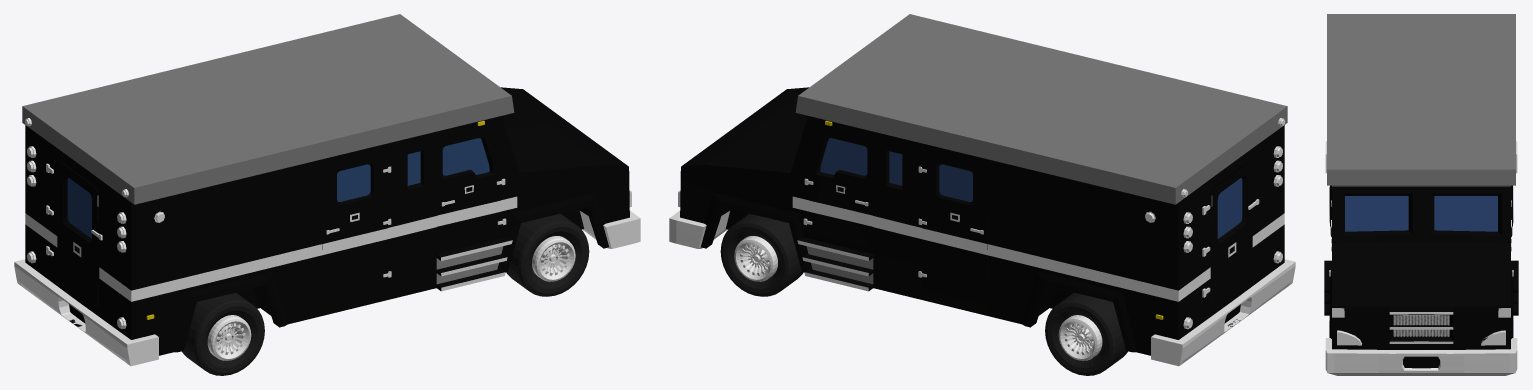
Rendered from armored van-.fbx.
3 views of the same model, side by side, from view 1: azimuth 30°, elevation 25°; view 2: azimuth 150°, elevation 25°; view 3: azimuth 270°, elevation 25° (orthographic). The views are drawn at different scales.
Parts seen in each view (by area): view 1: Cube, door.002, door.001, door, Cylinder.003, Cylinder.009, Cube.004, Cube.005, Cylinder.010, Cylinder.004, Cylinder.011, Cylinder.005; view 2: Cube, door.002, door.001, door, Cylinder.003, Cylinder.009, Cube.004, Cube.005, Cylinder.010, Cylinder.004, Cylinder.011, Cylinder.005; view 3: Cube, Cube.005.
Part boxes in pixels (x1,y1,x2,y2): Cube: (14,14,640,366); door.002: (322,154,387,304); door.001: (349,130,501,247); door: (57,161,97,307); Cylinder.003: (506,213,589,296); Cylinder.009: (182,292,264,375); Cube.004: (97,211,287,352); Cube.005: (497,193,608,272); Cylinder.010: (207,315,251,360); Cylinder.004: (532,236,575,281); Cylinder.011: (216,323,245,354); Cylinder.005: (540,244,569,275); Cube: (669,14,1295,366); door.002: (922,154,987,304); door.001: (808,130,960,247); door: (1212,161,1252,307); Cylinder.003: (720,213,803,296); Cylinder.009: (1045,292,1127,375); Cube.004: (1022,212,1212,352); Cube.005: (701,193,812,272); Cylinder.010: (1058,315,1102,360); Cylinder.004: (734,236,777,281); Cylinder.011: (1064,323,1093,354); Cylinder.005: (740,244,769,275); Cube: (1324,14,1518,375); Cube.005: (1329,273,1513,338).
Bounding box in the file's own units: 12561 × 4990 × 4852.
